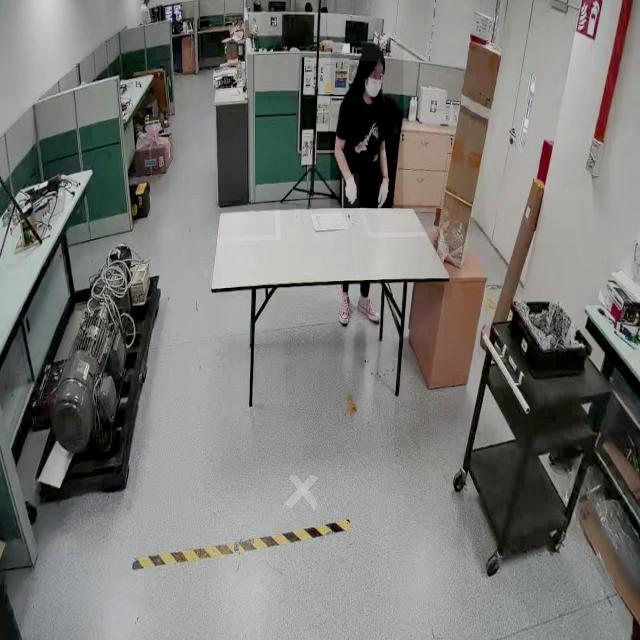face_mask: (363, 66, 385, 103)
hand_glove: (374, 173, 394, 209), (341, 172, 359, 210)
head_nohelmet: (360, 41, 386, 62)
person: (330, 43, 404, 209)
shoes: (356, 290, 382, 330), (336, 290, 354, 326)
